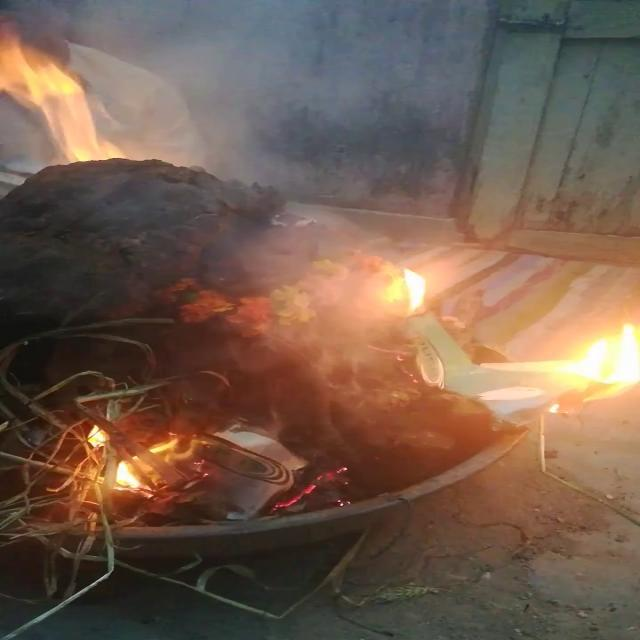Fire: (364, 247, 640, 413), (4, 34, 122, 166), (76, 415, 184, 497)
Smoke: (117, 5, 411, 309), (220, 197, 422, 396)
